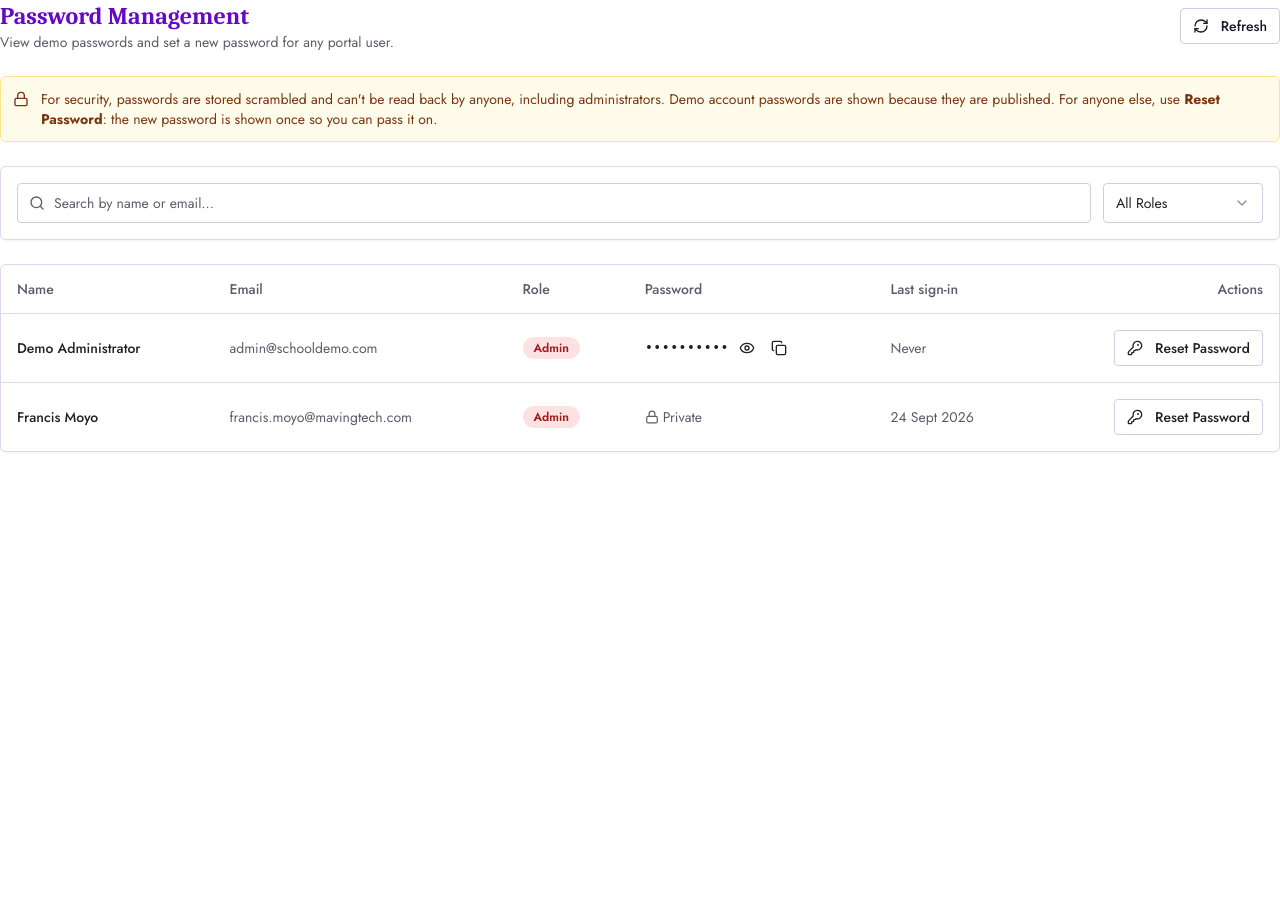
it: Password Management screen › reveals demo passwords, keeps real ones private, and shows a new password once after a reset
Expected: the text "Francis Moyo" is shown, x1=1 y1=382 x2=213 y2=450
Expected: the text "Private" is shown, x1=645 y1=406 x2=702 y2=426
Click the button named "Show password" at (747, 348), box x1=733 y1=334 x2=761 y2=362
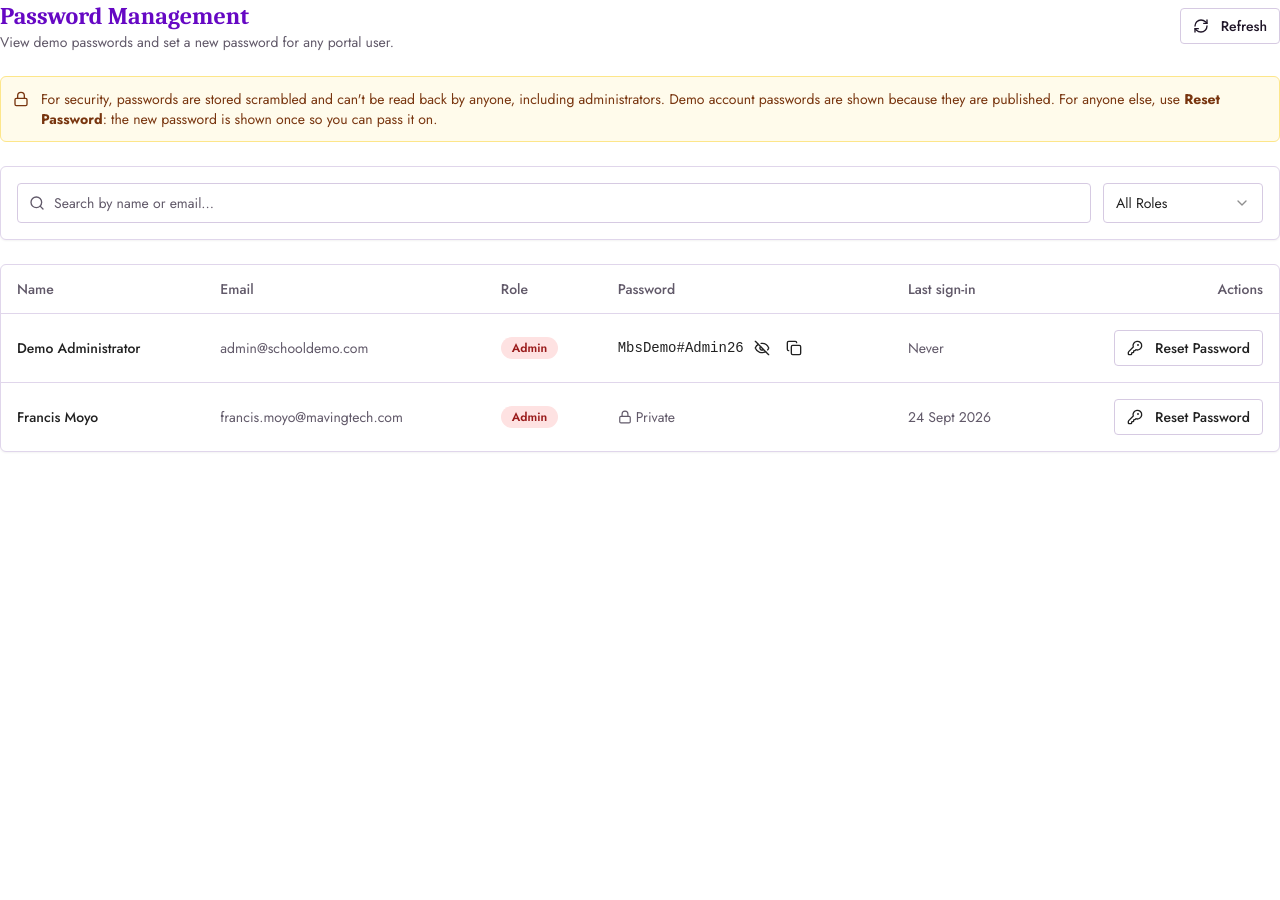
Now the text "MbsDemo#Admin26" is shown, box x1=618 y1=338 x2=744 y2=358
Click the button "Reset Password" in the row of "Francis Moyo" at (1189, 416), box x1=1114 y1=398 x2=1263 y2=434
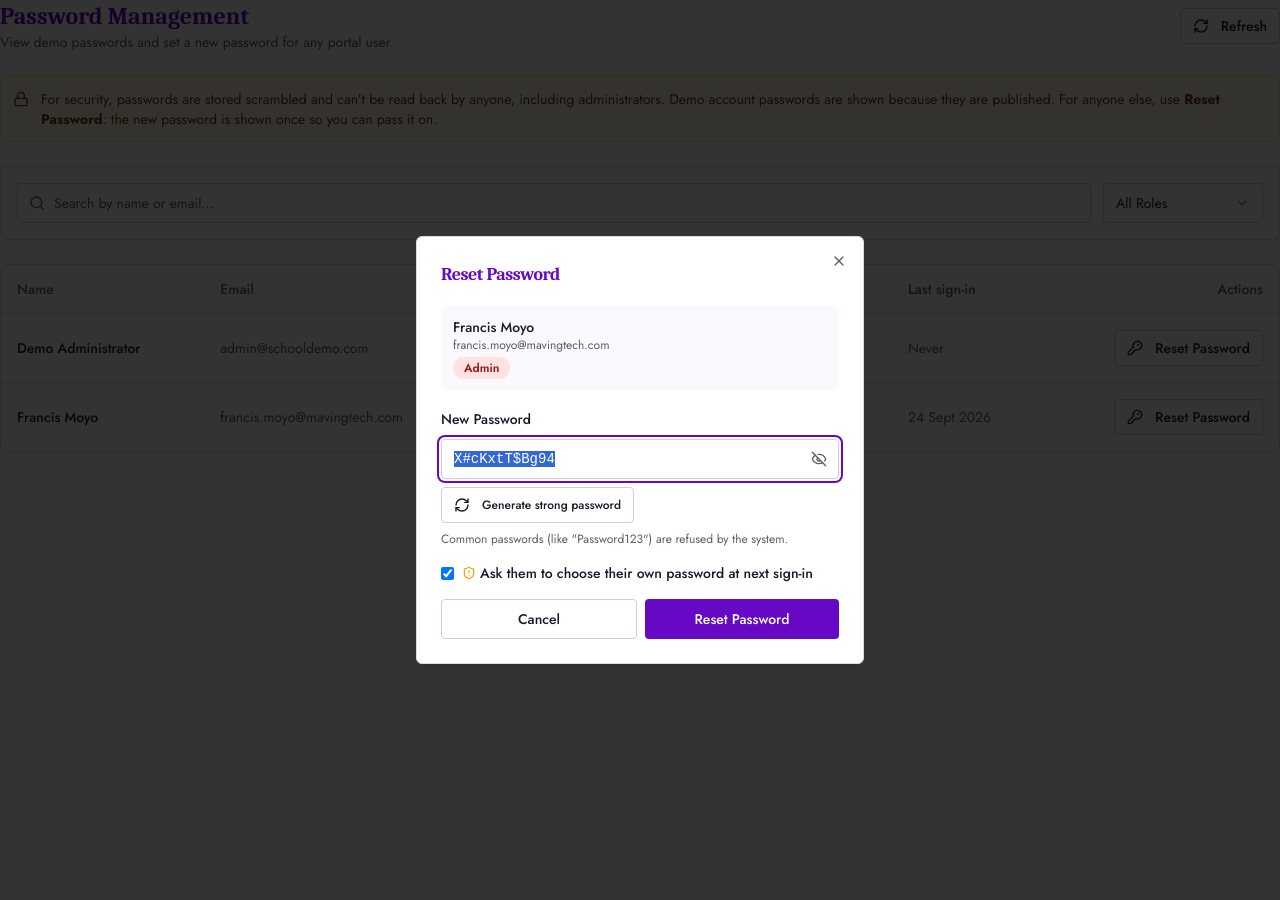
Replace the text in the field labelled "New Password" with "Kariba#Sunset42" at (640, 459), box x1=441 y1=439 x2=839 y2=479
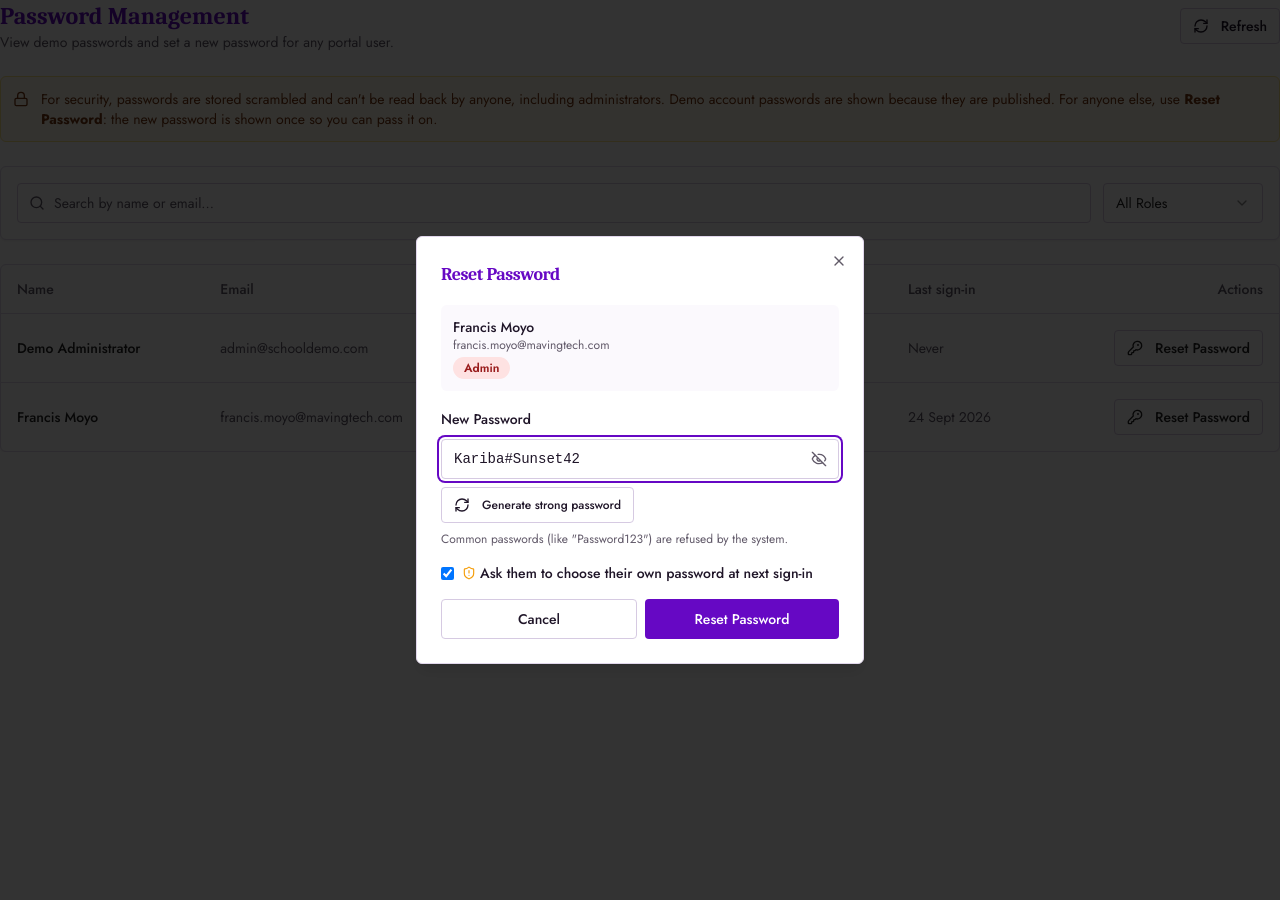
Click the button "Reset Password" at (742, 619), box x1=645 y1=599 x2=839 y2=639
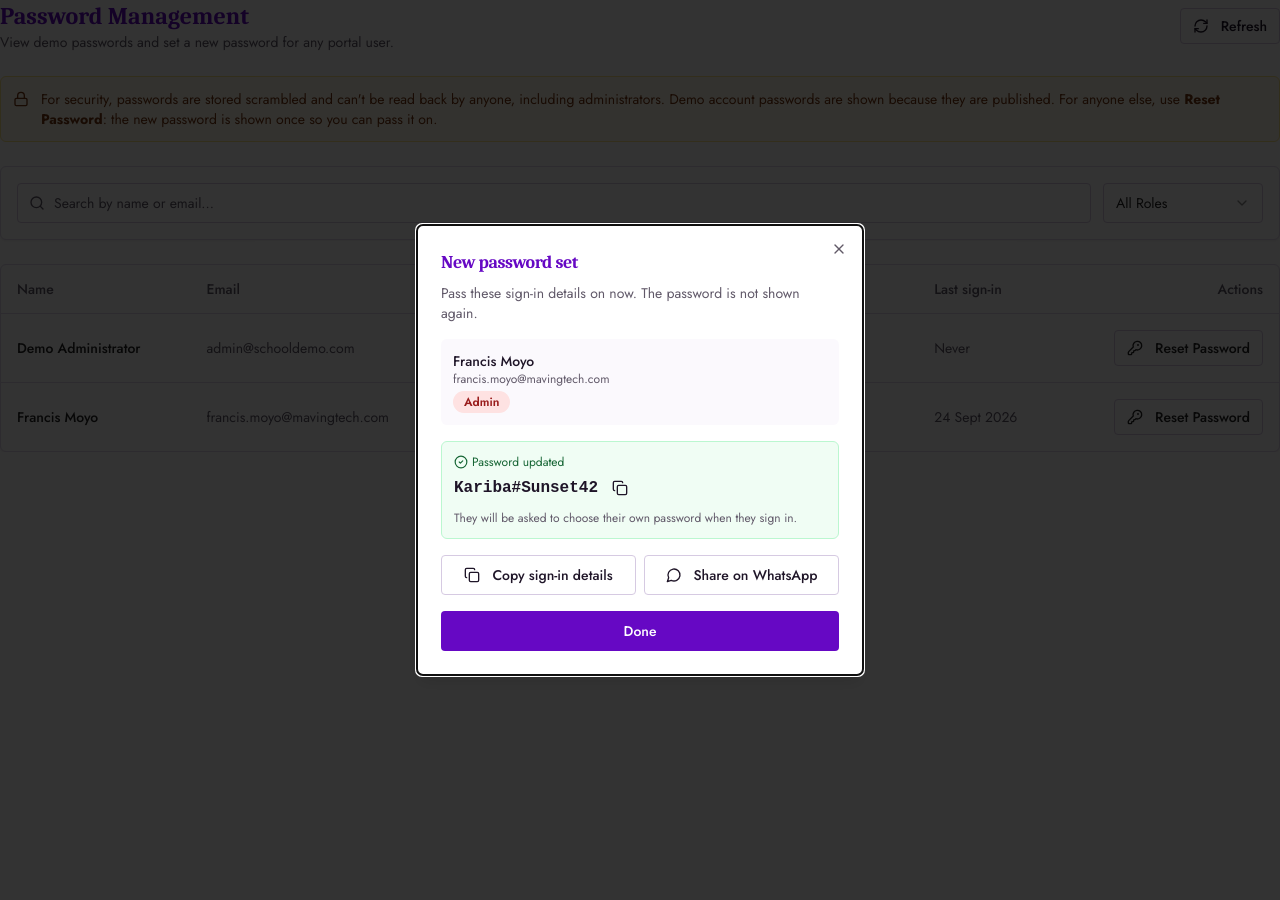
Now the heading "New password set" is shown, box x1=441 y1=252 x2=578 y2=273
Now the text "Kariba#Sunset42" is shown, box x1=454 y1=476 x2=598 y2=500
